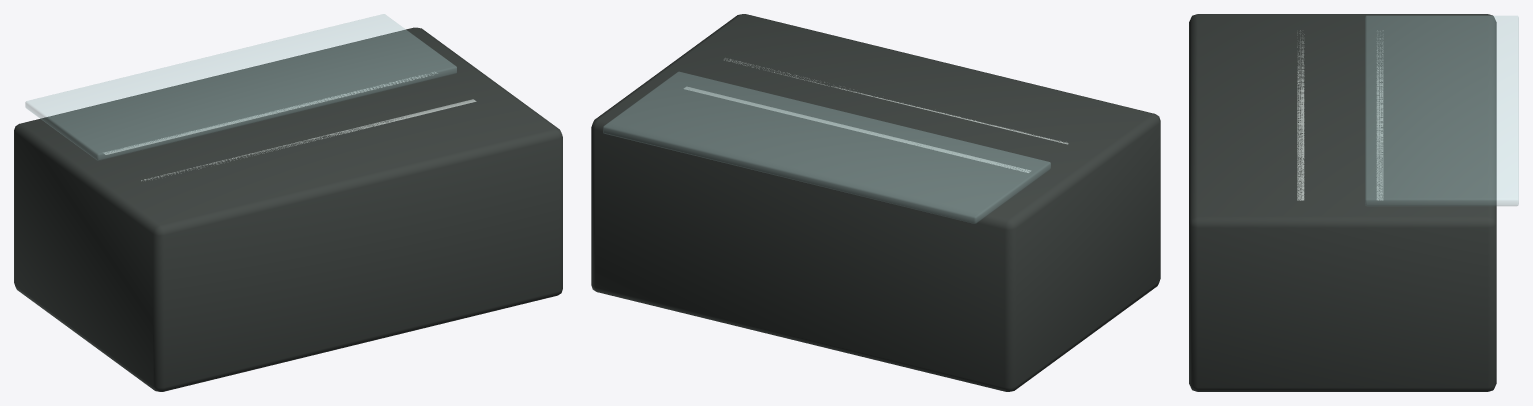
Rendered from display_bakery.glb.
The picture shows the model from 3 angles, left to right: view 1: azimuth 30°, elevation 25°; view 2: azimuth 150°, elevation 25°; view 3: azimuth 270°, elevation 25°; orthographic projection. The views are drawn at different scales.
Visible parts, largest first — view 1: Cabinet, Glass, Tray.001, Tray; view 2: Cabinet, Glass, Tray.001, Tray; view 3: Cabinet, Glass, Tray, Tray.001.
Part boxes in pixels (box(x1,y1,x2,y2)): Cabinet: box(14, 27, 562, 391); Glass: box(25, 14, 456, 160); Tray.001: box(103, 72, 437, 154); Tray: box(141, 99, 476, 181); Cabinet: box(591, 14, 1160, 391); Glass: box(603, 72, 1050, 223); Tray.001: box(684, 86, 1030, 172); Tray: box(724, 58, 1068, 144); Cabinet: box(1189, 14, 1496, 391); Glass: box(1365, 16, 1518, 205); Tray: box(1297, 30, 1304, 200); Tray.001: box(1376, 30, 1383, 200).
Size of the model in its own units: 2 by 0.8175 by 1.33.
